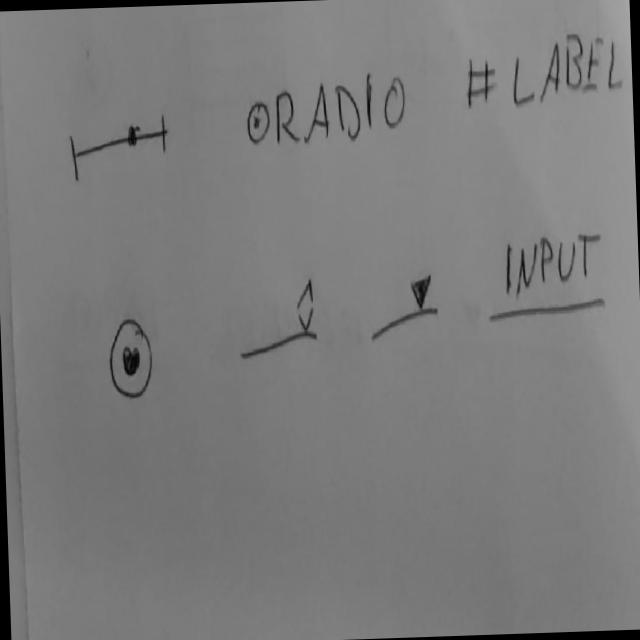icon-button: (106, 315, 156, 404)
input: (483, 230, 611, 328)
label: (464, 28, 628, 116)
number-input: (237, 275, 323, 366)
radio: (245, 65, 412, 151)
select: (366, 268, 443, 348)
slider: (67, 111, 172, 185)
